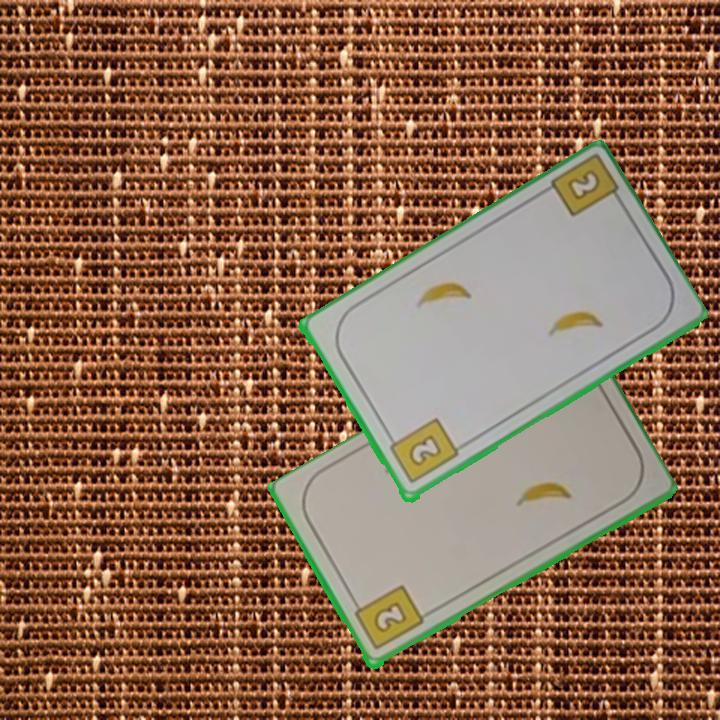2b: (349, 582, 427, 653), (385, 415, 461, 487), (563, 166, 603, 204)
